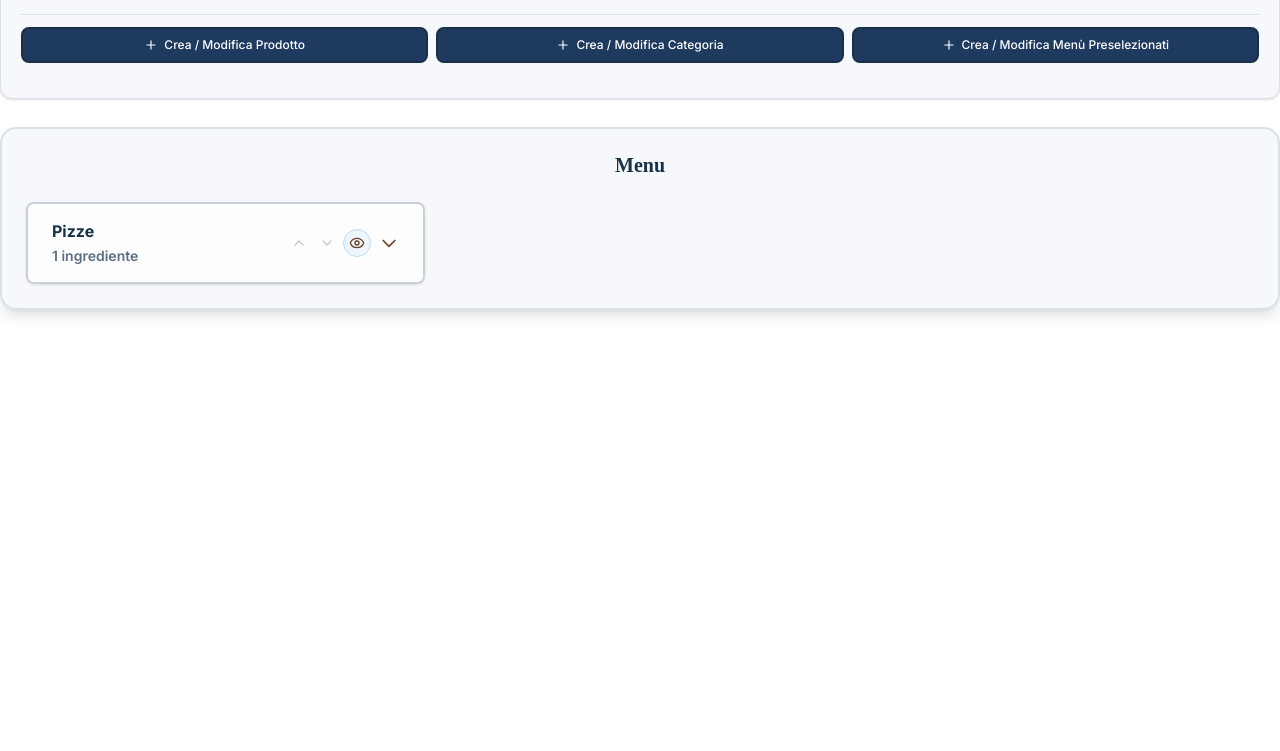
Test: MenuPricesTab — FIX 1 chiusura form dopo modifica ingrediente › chiude il form di modifica dopo «Salva», come già fa «Nuovo Prodotto»
Click the button "Crea / Modifica Prodotto" at (225, 45), box 21,27 -> 428,63
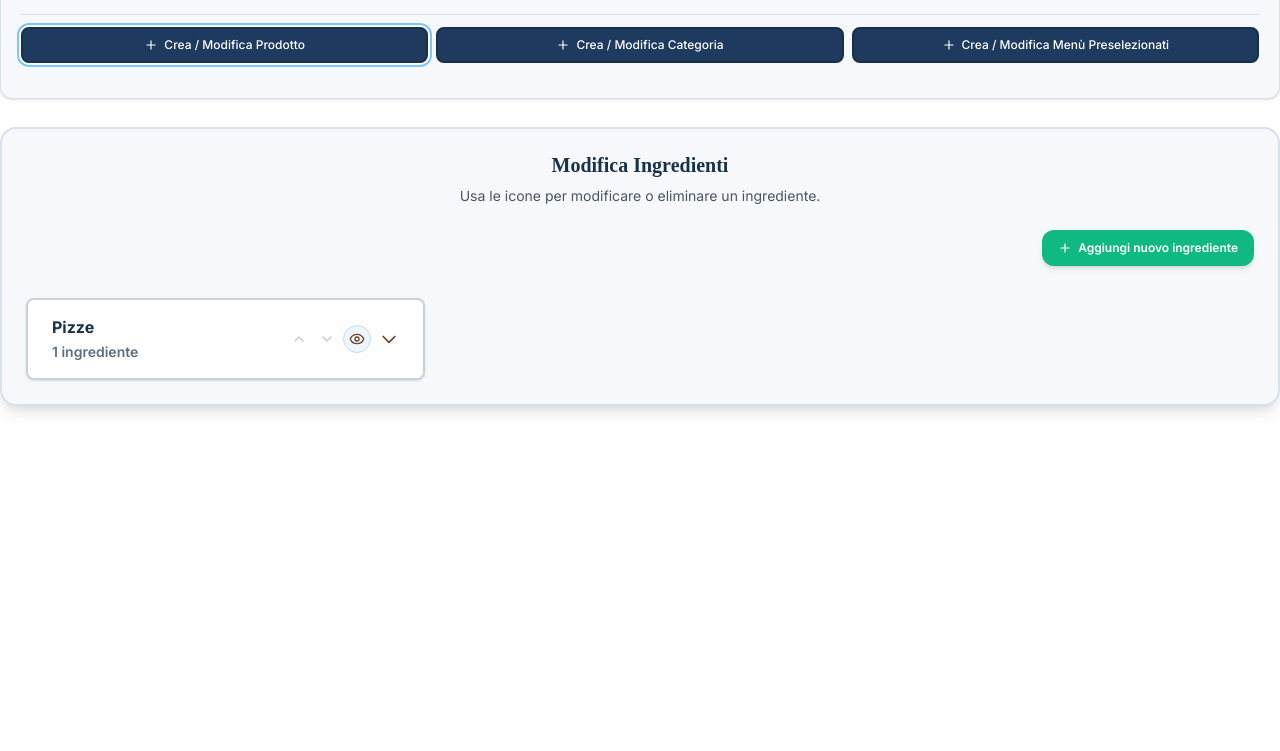
Click the button "Pizze 1 ingrediente" at (73, 327), box 28,300 -> 423,378
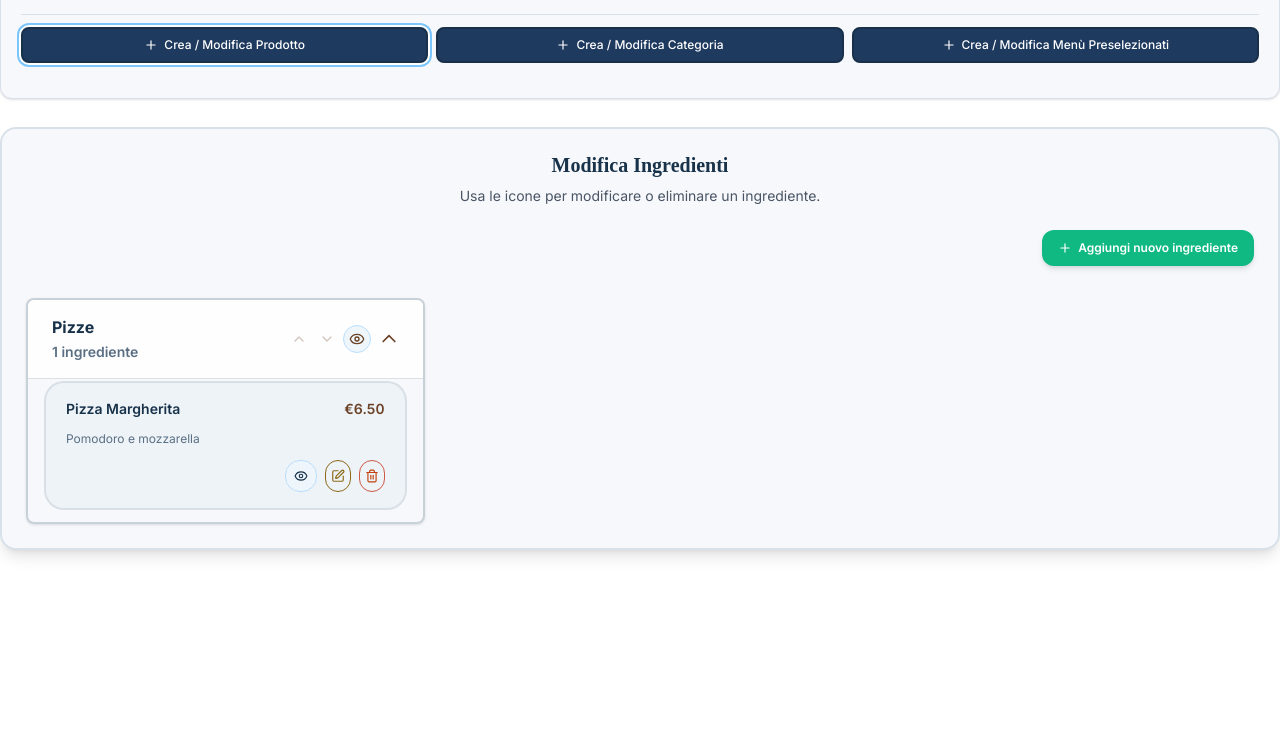
Click the button named "Modifica Pizza Margherita" at (338, 476), box 325,460 -> 351,492
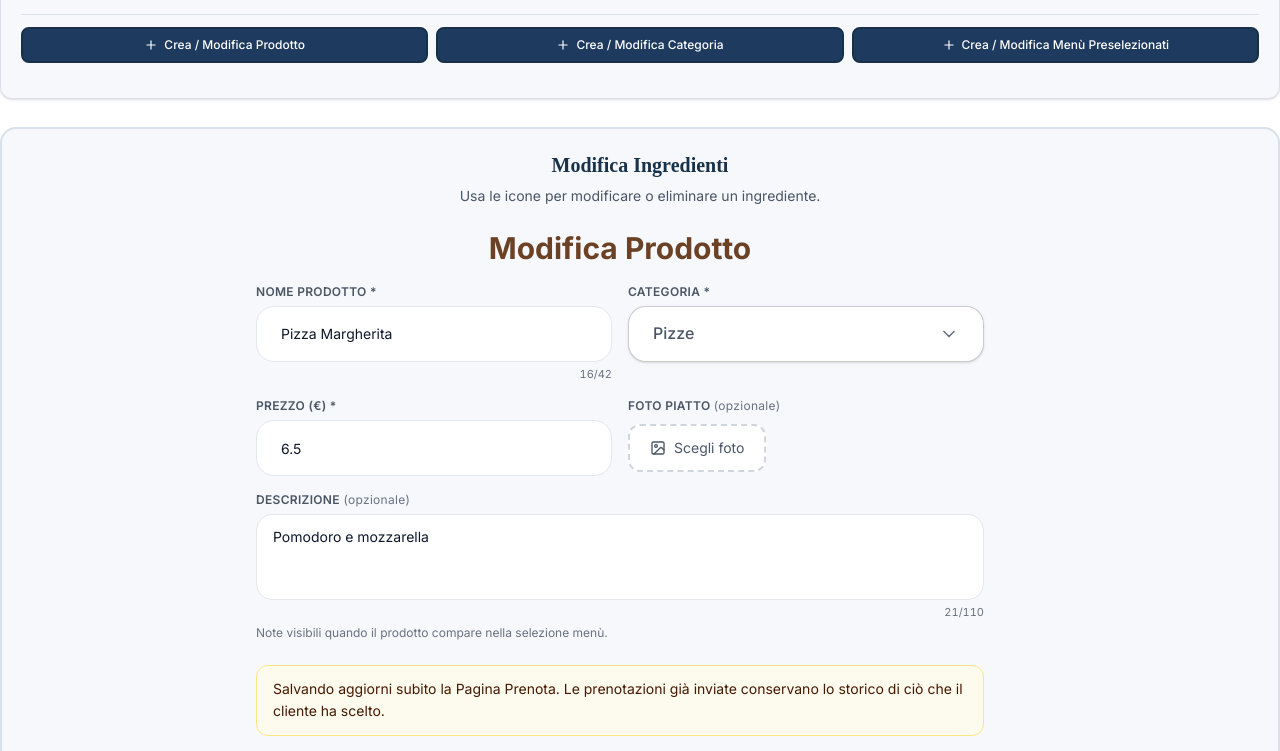
Now the heading "Modifica Prodotto" is shown, box 489,230 -> 751,266
Now the field with placeholder "Es. Pizza Margherita" holds "Pizza Margherita"
Replace the text in the field with placeholder "Es. Pizza Margherita" with "Pizza Margherita DOC" at (434, 334), box 256,306 -> 612,362
(page scrolled)
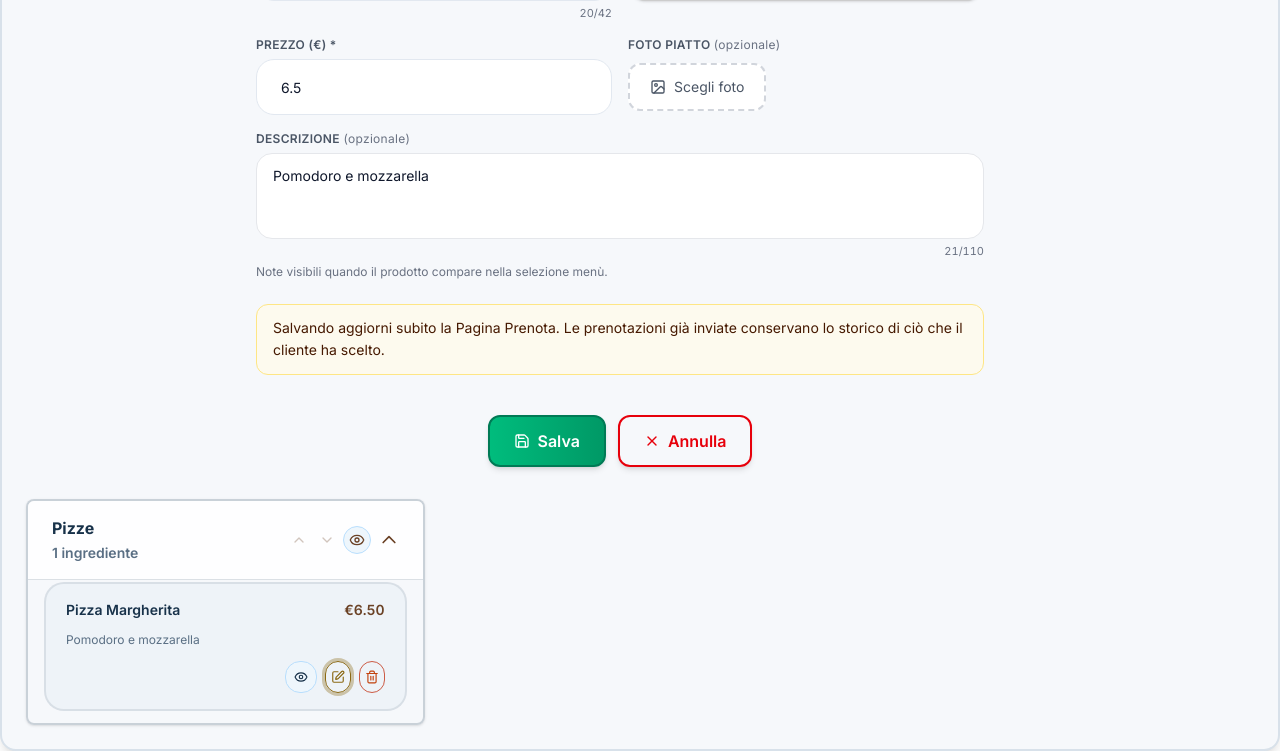
Click the button "Salva" at (547, 441), box 488,415 -> 606,467
(page scrolled)
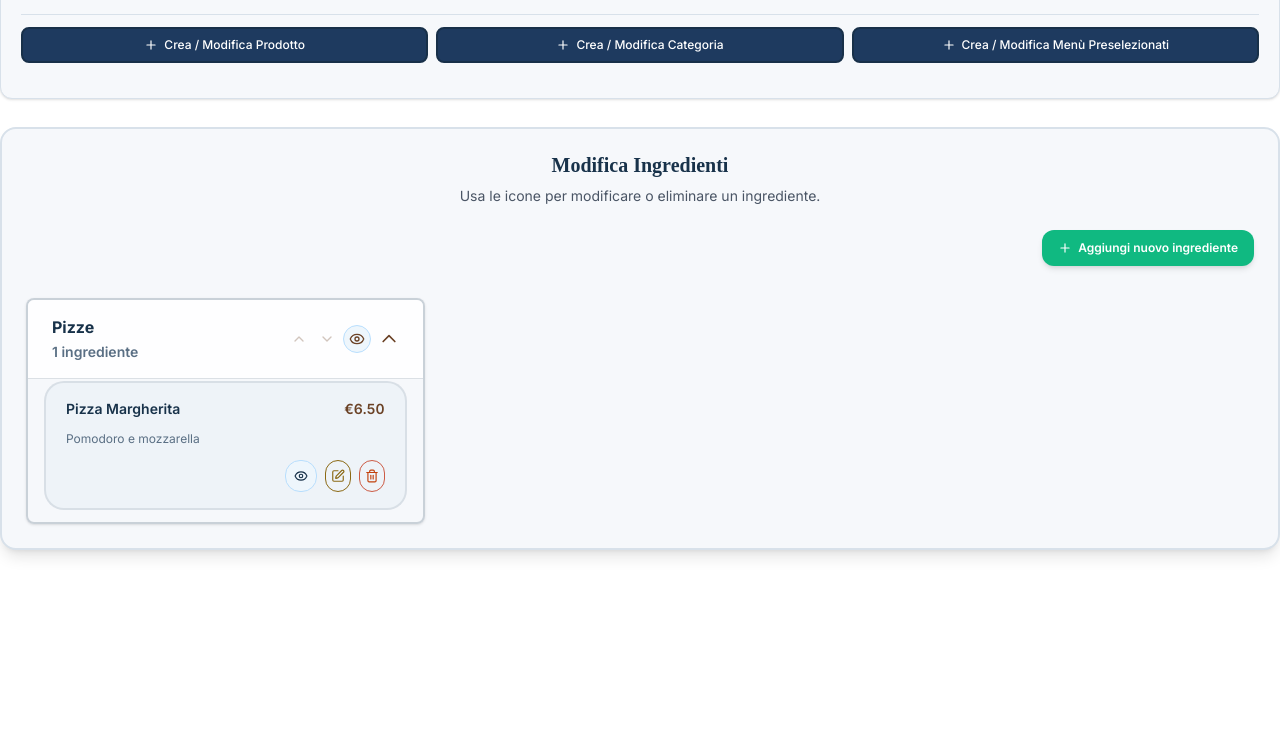
Now the button "Aggiungi nuovo ingrediente" is shown, box 1042,230 -> 1254,266
